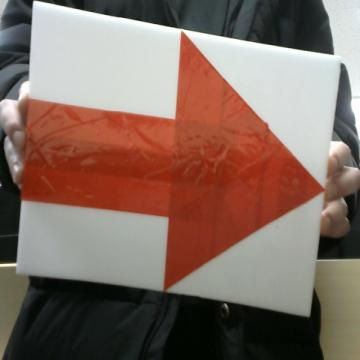red_right: (23, 32, 322, 289)
